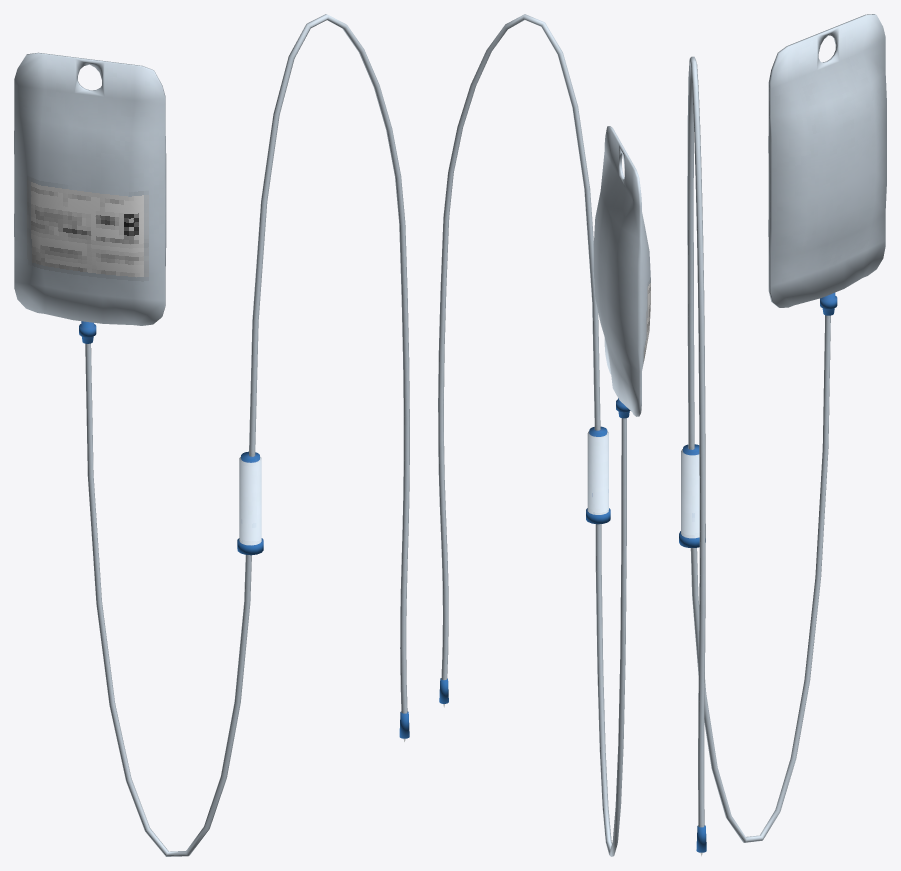
File: IV_bag.glb
3 renders of one model, left to right at view 1: azimuth 30°, elevation 25°; view 2: azimuth 150°, elevation 25°; view 3: azimuth 270°, elevation 25°, orthographic. The views are drawn at different scales.
Visible parts, largest first — view 1: IV_bag.001; view 2: IV_bag.001; view 3: IV_bag.001.
Part boxes in pixels (box(x1,y1,x2,y2)): IV_bag.001: box(14, 14, 409, 856); IV_bag.001: box(438, 14, 650, 856); IV_bag.001: box(679, 14, 886, 856).
Size of the model in its own units: 0.4463 by 1.17 by 0.2614.
Materials: 1 (1 with a texture image).
